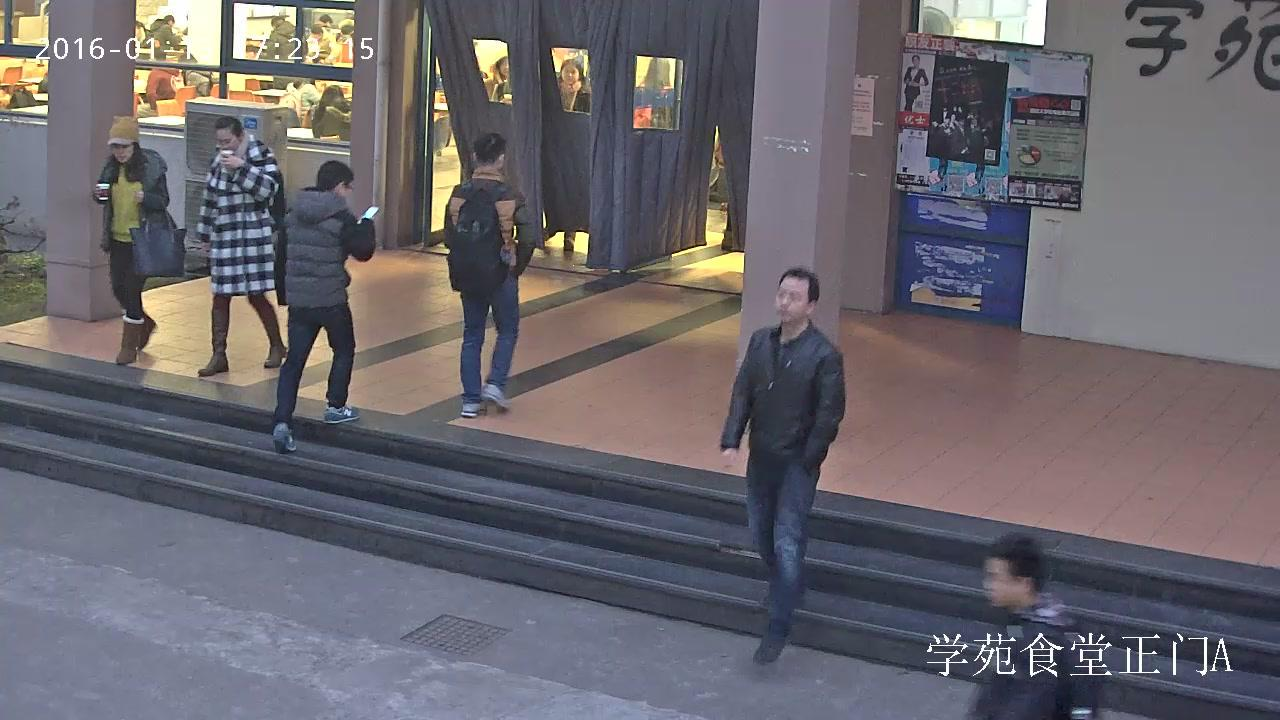person: (718, 266, 846, 663), (271, 158, 381, 453), (443, 132, 538, 417), (965, 532, 1104, 720), (91, 115, 187, 365), (196, 114, 287, 376), (540, 58, 591, 251), (632, 57, 675, 129), (311, 85, 354, 141), (279, 78, 318, 121), (306, 24, 343, 66), (147, 68, 183, 110), (260, 17, 295, 59), (178, 53, 212, 96), (150, 14, 181, 61), (903, 55, 928, 112), (134, 20, 160, 60)
